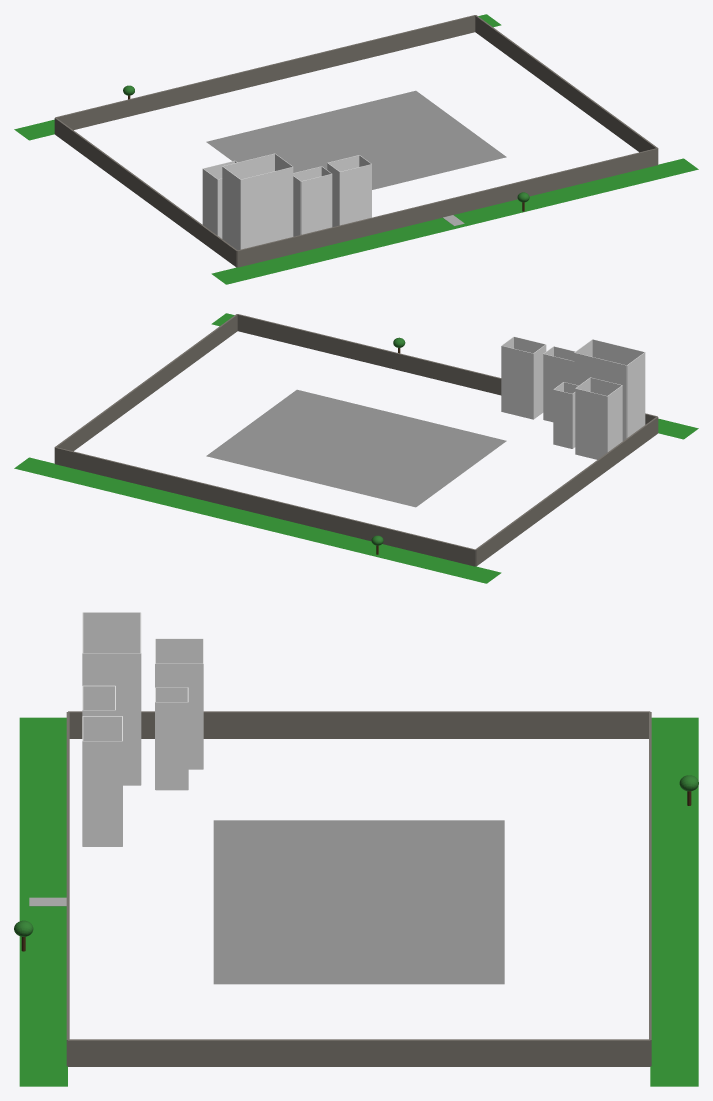
File: enhanced_boq_ed99a018-98fa-4a78-a005-ef06e8acecdd.obj
3 views of the same model, one above another, from view 1: azimuth 30°, elevation 25°; view 2: azimuth 150°, elevation 25°; view 3: azimuth 270°, elevation 25° (orthographic). The views are drawn at different scales.
Visible parts, largest first — view 1: Foundation, ExteriorWall_South, ExteriorWall_North, FrontYard, SouthWall_Living_Room, ExteriorWall_West, ExteriorWall_East, SouthWall_Dining_Room, SouthWall_Kitchen, WestWall_Living_Room, WestWall_Master_Bedroom, NorthWall_Living_Room (+3 smaller); view 2: Foundation, ExteriorWall_North, BackYard, ExteriorWall_South, ExteriorWall_West, ExteriorWall_East, NorthWall_Dining_Room, NorthWall_Master_Bedroom, NorthWall_Living_Room, WestWall_Living_Room, NorthWall_Kitchen, NorthWall_Bathroom (+4 smaller); view 3: Foundation, BackYard, FrontYard, ExteriorWall_East, ExteriorWall_West, EastWall_Dining_Room, EastWall_Living_Room, EastWall_Bathroom, EastWall_Master_Bedroom, WestWall_Living_Room, ExteriorWall_South, WestWall_Master_Bedroom (+3 smaller).
Part boxes in pixels (<box>): Foundation: <box>206,90,506,189</box>; ExteriorWall_South: <box>237,148,657,267</box>; ExteriorWall_North: <box>55,15,475,130</box>; FrontYard: <box>211,158,698,284</box>; SouthWall_Living_Room: <box>240,167,293,249</box>; ExteriorWall_West: <box>54,117,237,267</box>; ExteriorWall_East: <box>475,15,658,164</box>; SouthWall_Dining_Room: <box>340,164,371,225</box>; SouthWall_Kitchen: <box>301,174,332,234</box>; WestWall_Living_Room: <box>222,166,240,250</box>; WestWall_Master_Bedroom: <box>202,168,217,235</box>; NorthWall_Living_Room: <box>223,153,274,179</box>; Foundation: <box>206,389,506,507</box>; ExteriorWall_North: <box>55,447,475,566</box>; BackYard: <box>14,457,501,583</box>; ExteriorWall_South: <box>237,314,657,424</box>; ExteriorWall_West: <box>475,416,658,566</box>; ExteriorWall_East: <box>54,314,237,463</box>; NorthWall_Dining_Room: <box>501,345,533,419</box>; NorthWall_Master_Bedroom: <box>575,388,607,459</box>; NorthWall_Living_Room: <box>574,352,626,440</box>; WestWall_Living_Room: <box>627,352,645,437</box>; NorthWall_Kitchen: <box>543,354,574,422</box>; NorthWall_Bathroom: <box>553,389,572,448</box>; Foundation: <box>213,820,504,984</box>; BackYard: <box>650,717,698,1086</box>; FrontYard: <box>19,717,67,1086</box>; ExteriorWall_East: <box>68,1039,650,1066</box>; ExteriorWall_West: <box>68,711,650,738</box>; EastWall_Dining_Room: <box>82,741,122,846</box>; EastWall_Living_Room: <box>82,653,140,785</box>; EastWall_Bathroom: <box>155,702,188,790</box>; EastWall_Master_Bedroom: <box>155,663,203,769</box>; WestWall_Living_Room: <box>83,612,140,653</box>; ExteriorWall_South: <box>66,712,69,1066</box>; WestWall_Master_Bedroom: <box>156,638,202,663</box>.
Size of the model in its own units: 90 by 15 by 70.6.
